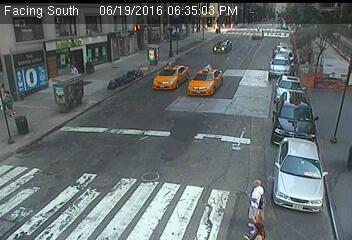neg: (302, 47, 313, 61), (282, 23, 288, 32), (217, 25, 221, 30), (228, 23, 232, 28)
pos: (243, 174, 276, 218), (249, 218, 265, 239), (66, 59, 79, 76)
